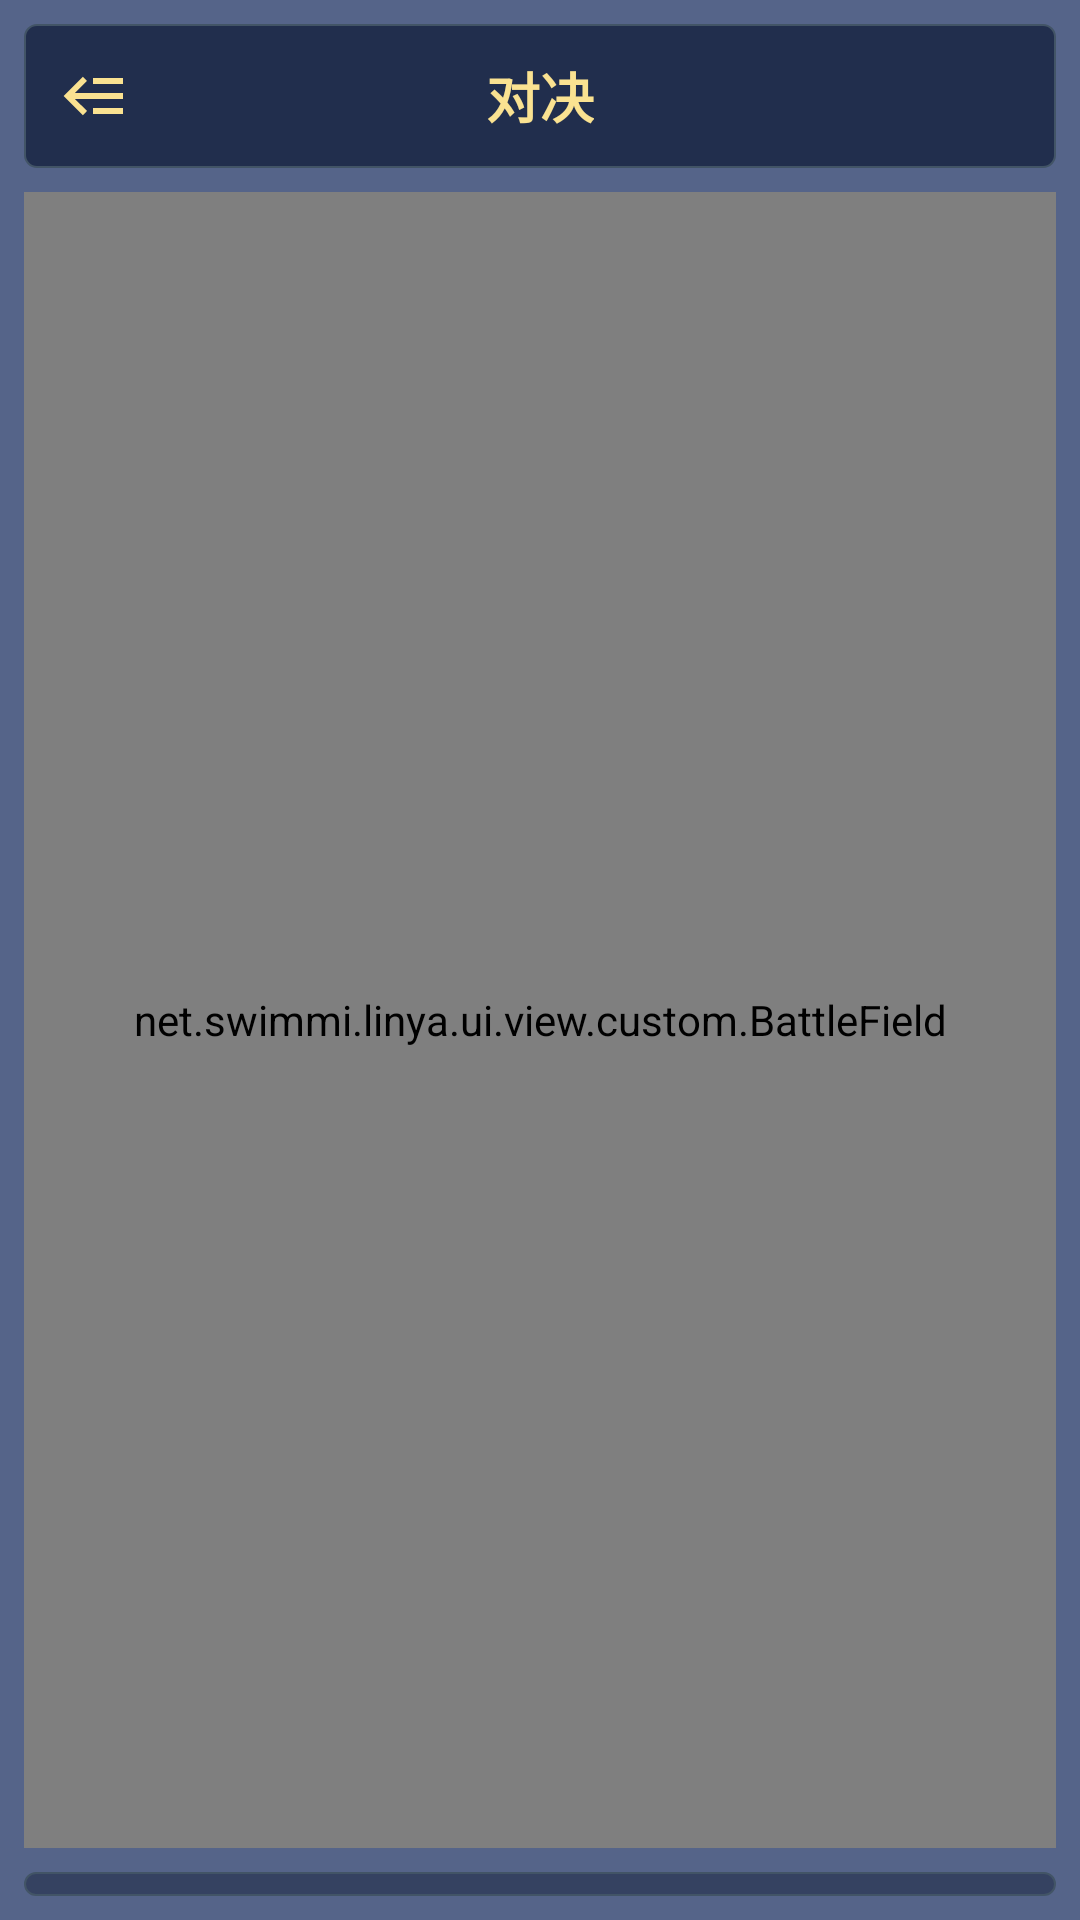

Icon bounding boxes for this 1080x1920 phone screenshot, format (x1,y1,x2,y2):
back: (64,77,123,115)
